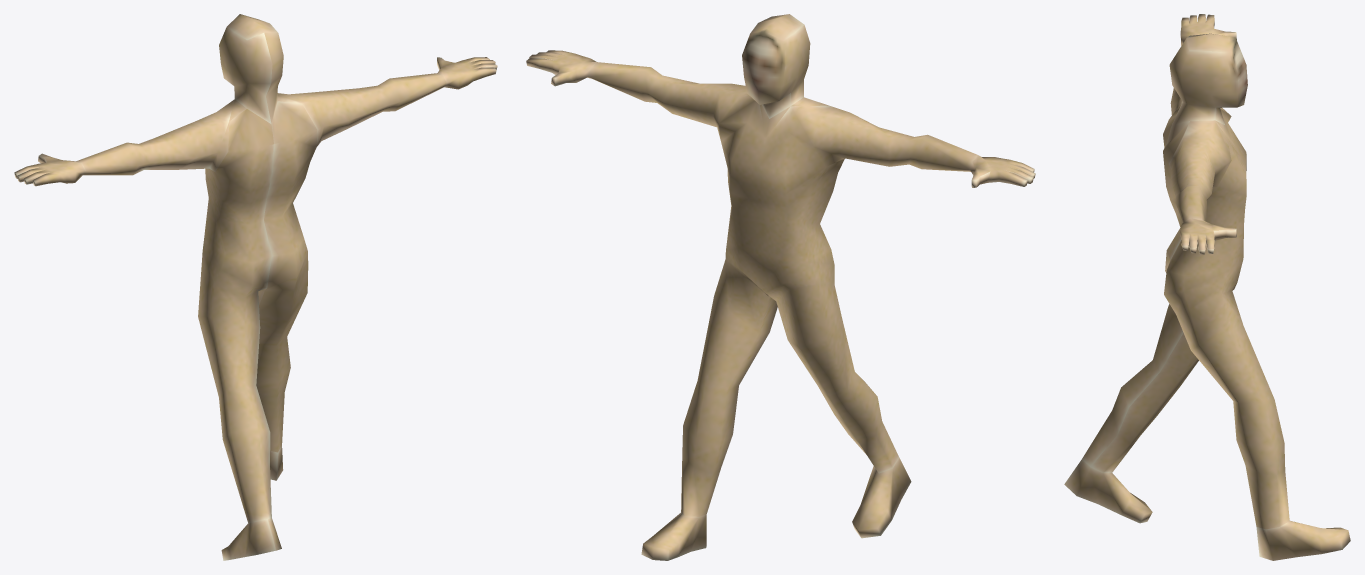
File: human_000004.obj
3 renders of one model, left to right at view 1: azimuth 30°, elevation 25°; view 2: azimuth 150°, elevation 25°; view 3: azimuth 270°, elevation 25°, orthographic. The views are drawn at different scales.
Size of the model in its own units: 1.87 by 1.89 by 0.9608.
